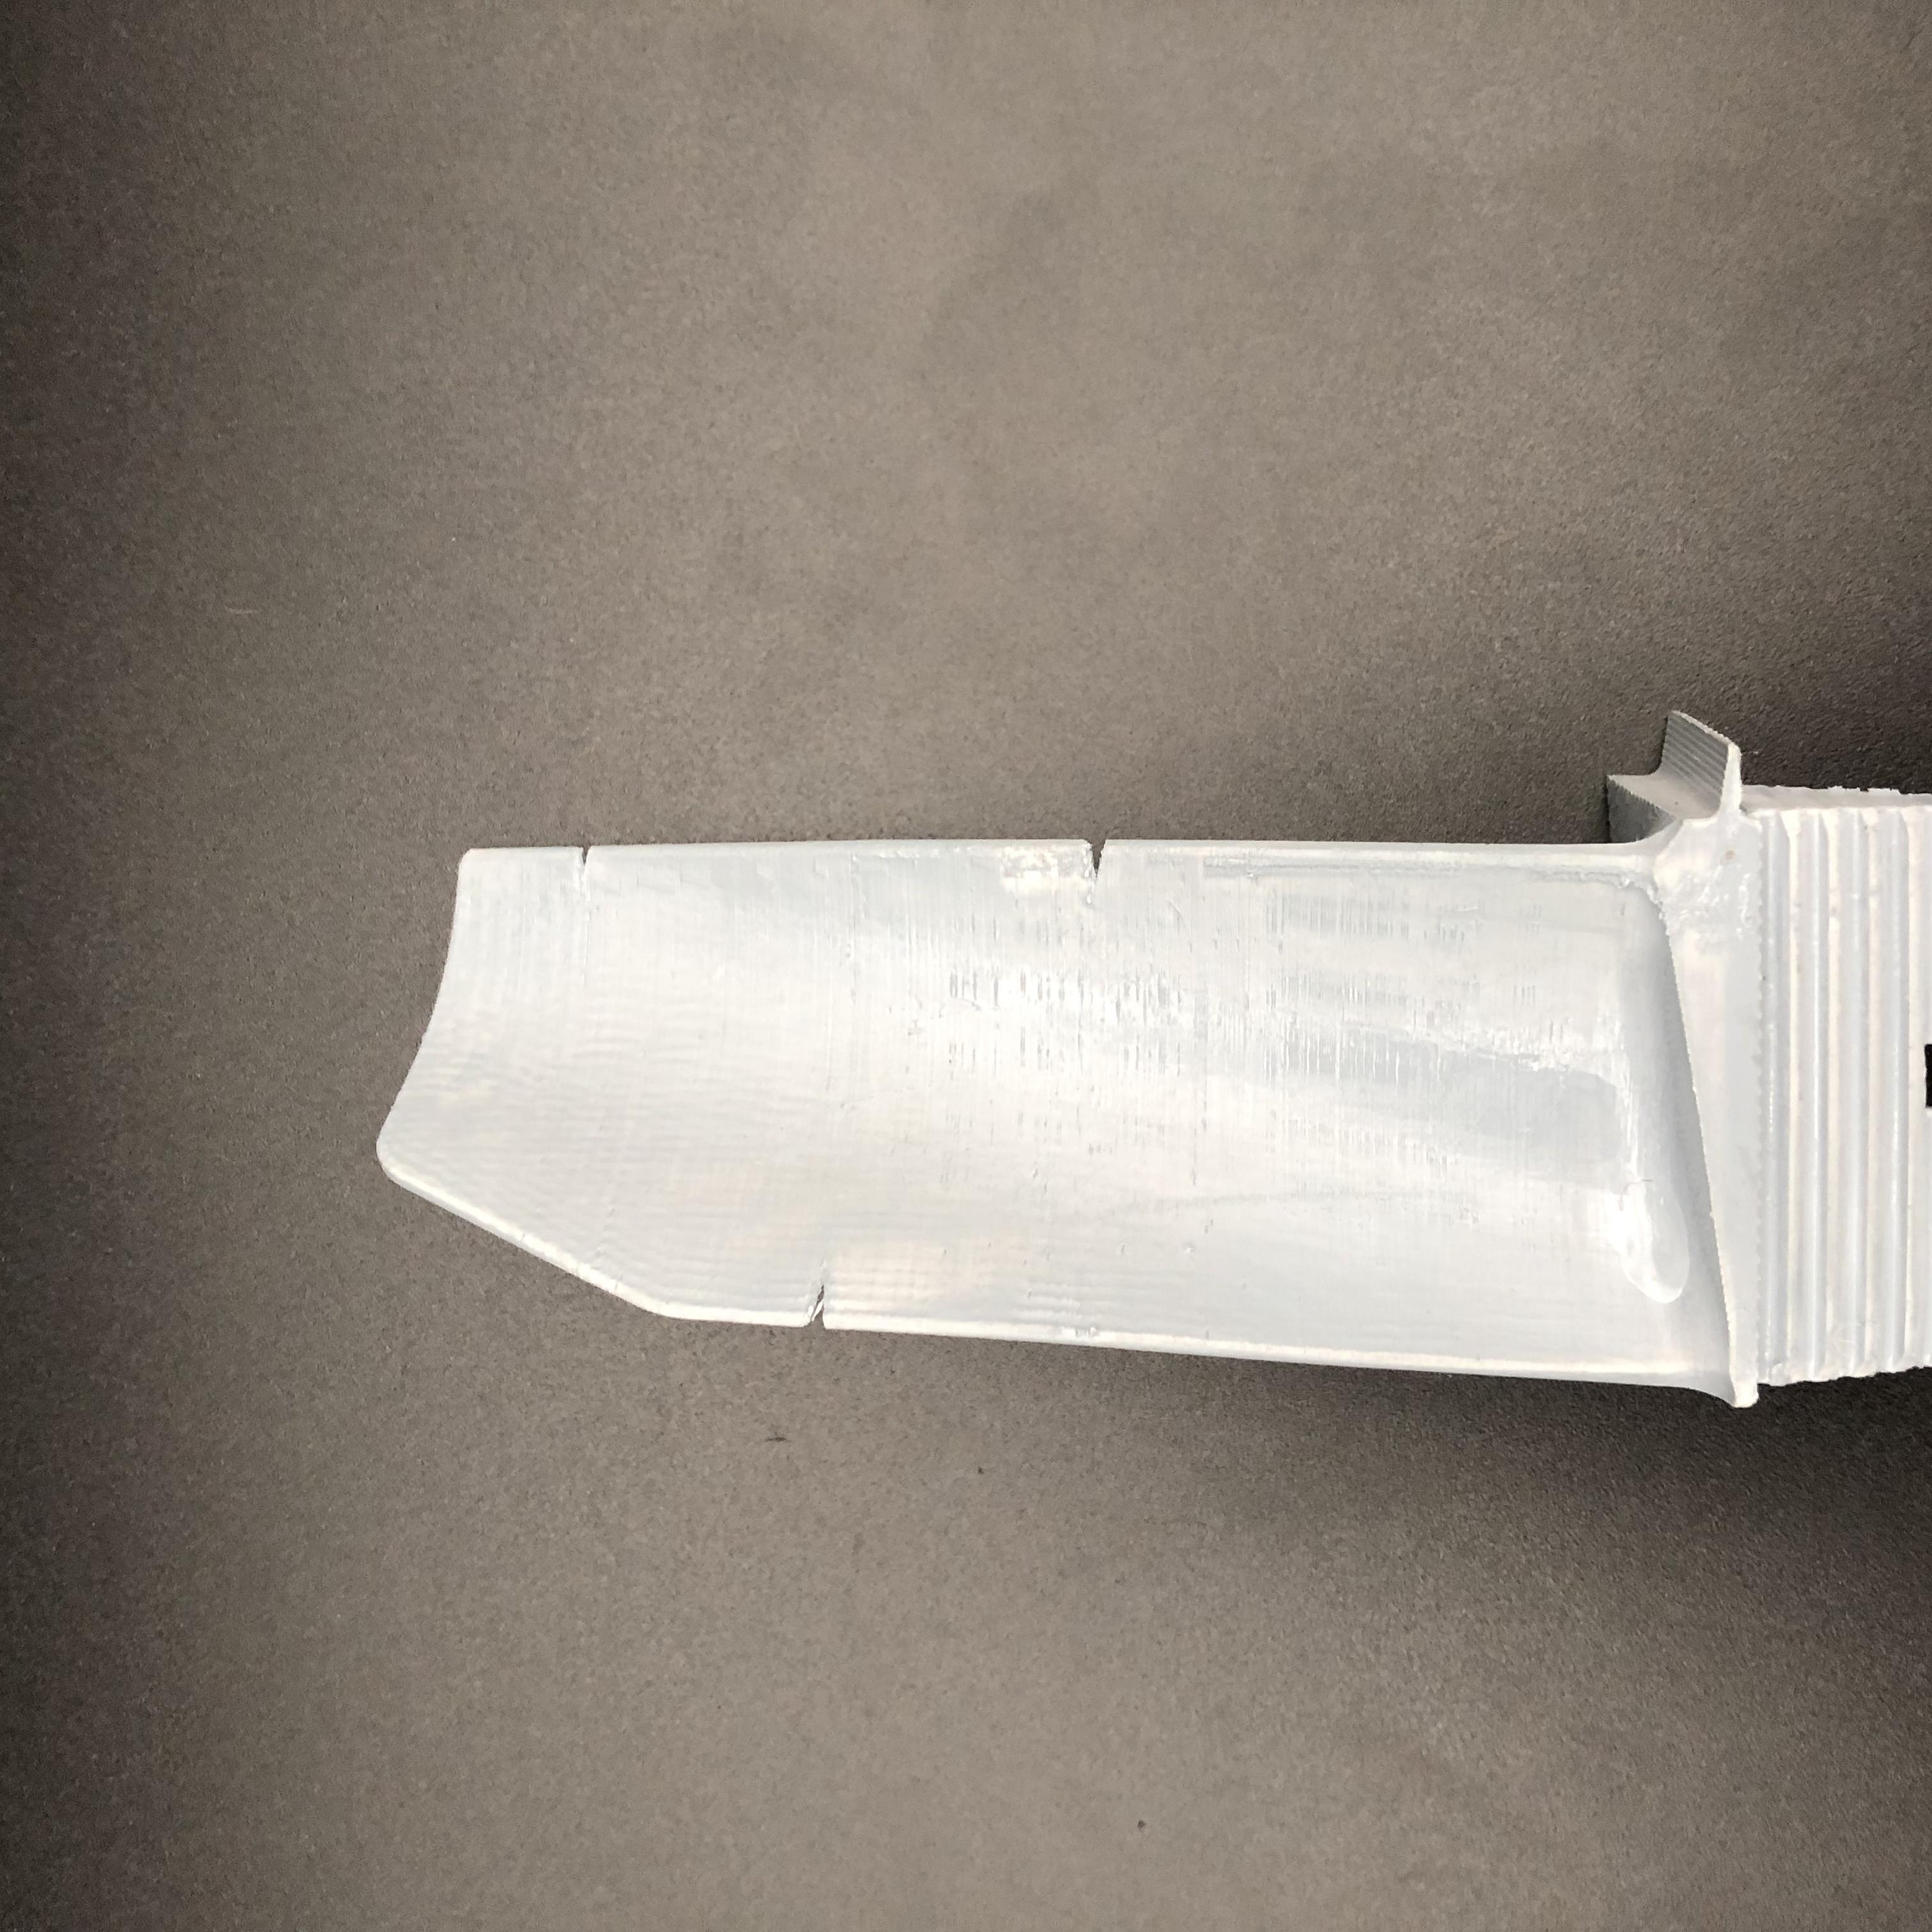groove: (782, 1274, 863, 1325), (1074, 839, 1139, 879), (561, 846, 623, 872)
